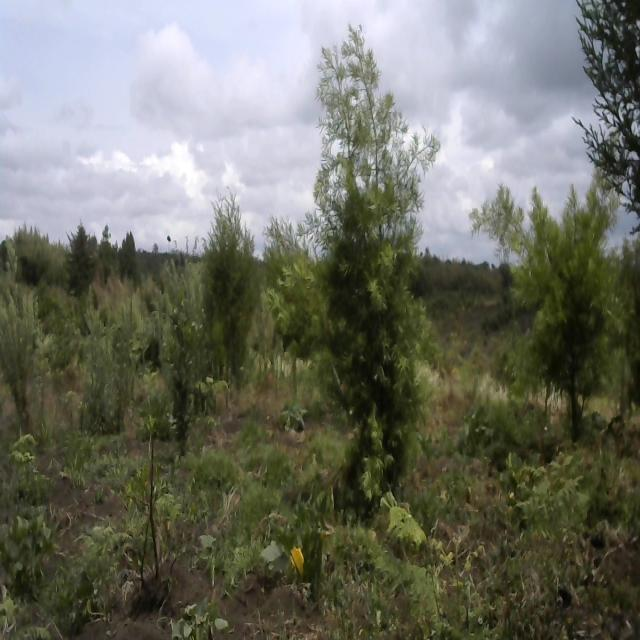Juniperus procesera: (200, 188, 260, 369), (64, 212, 100, 302)
Podocarpus falcatus: (295, 25, 446, 515), (464, 172, 628, 438)
